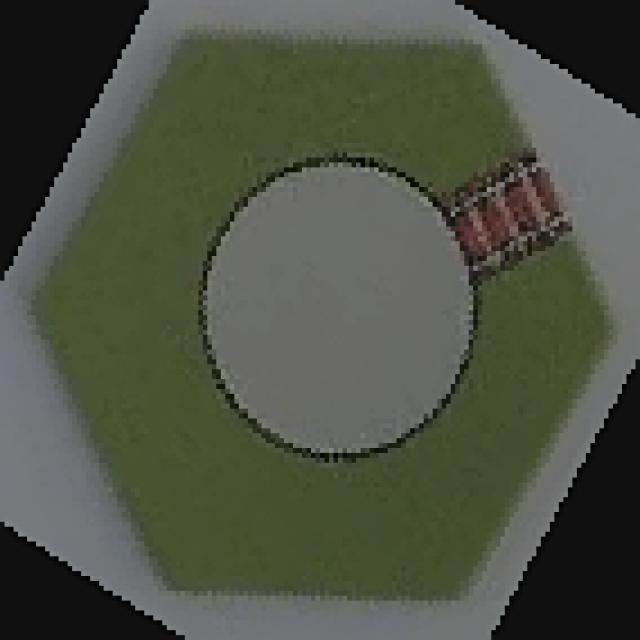13_4: (33, 34, 616, 601)
